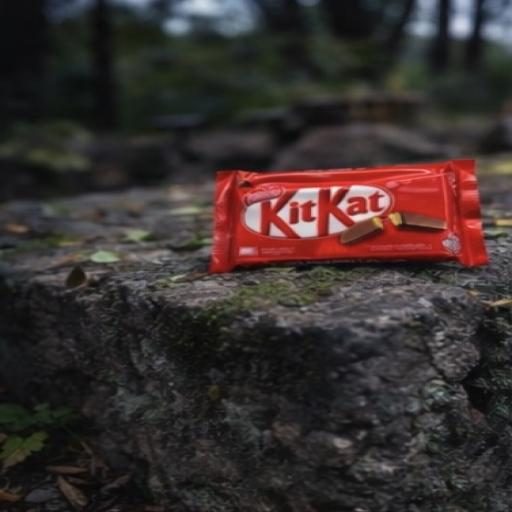kitkat: (167, 136, 512, 326)
